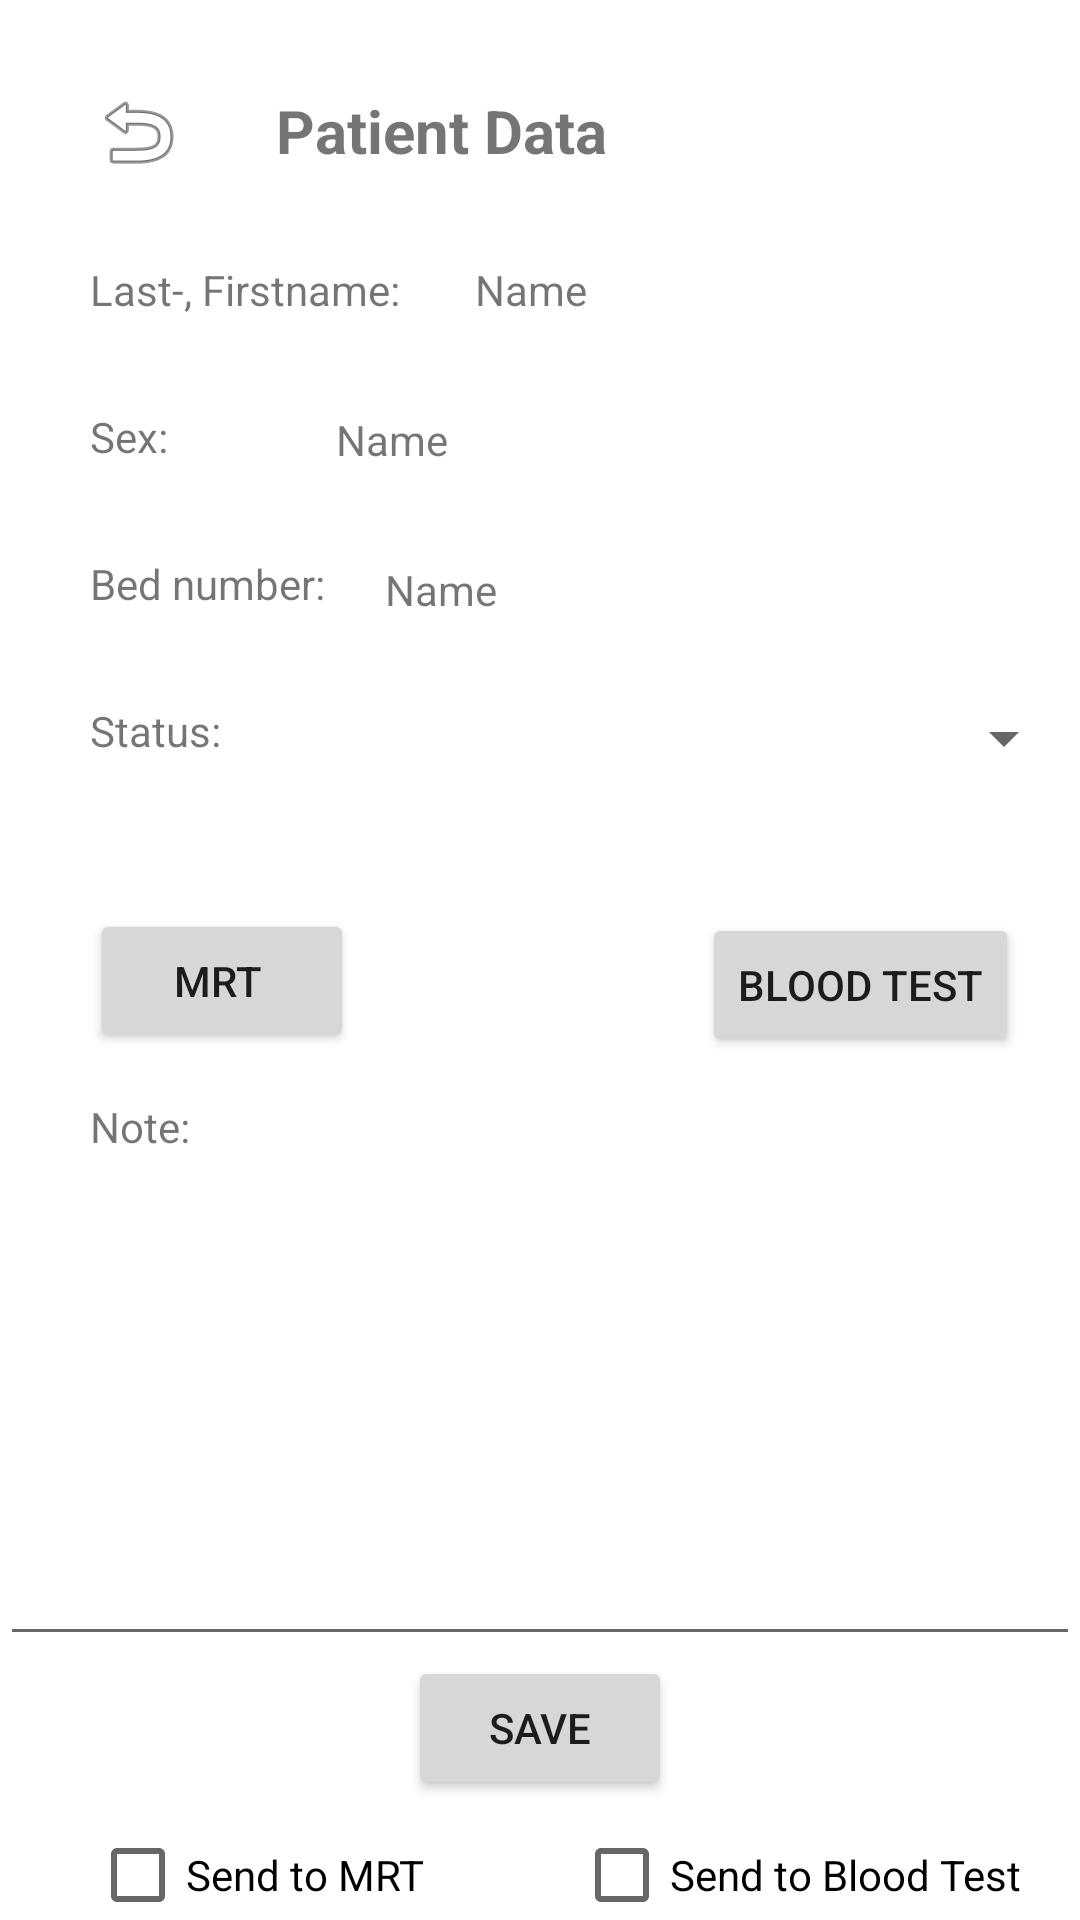

Named icons in this screenshot (1080 × 1920) and their bounding boxes, (x1, y1, x2, y2):
revert: (105, 101, 174, 164)
